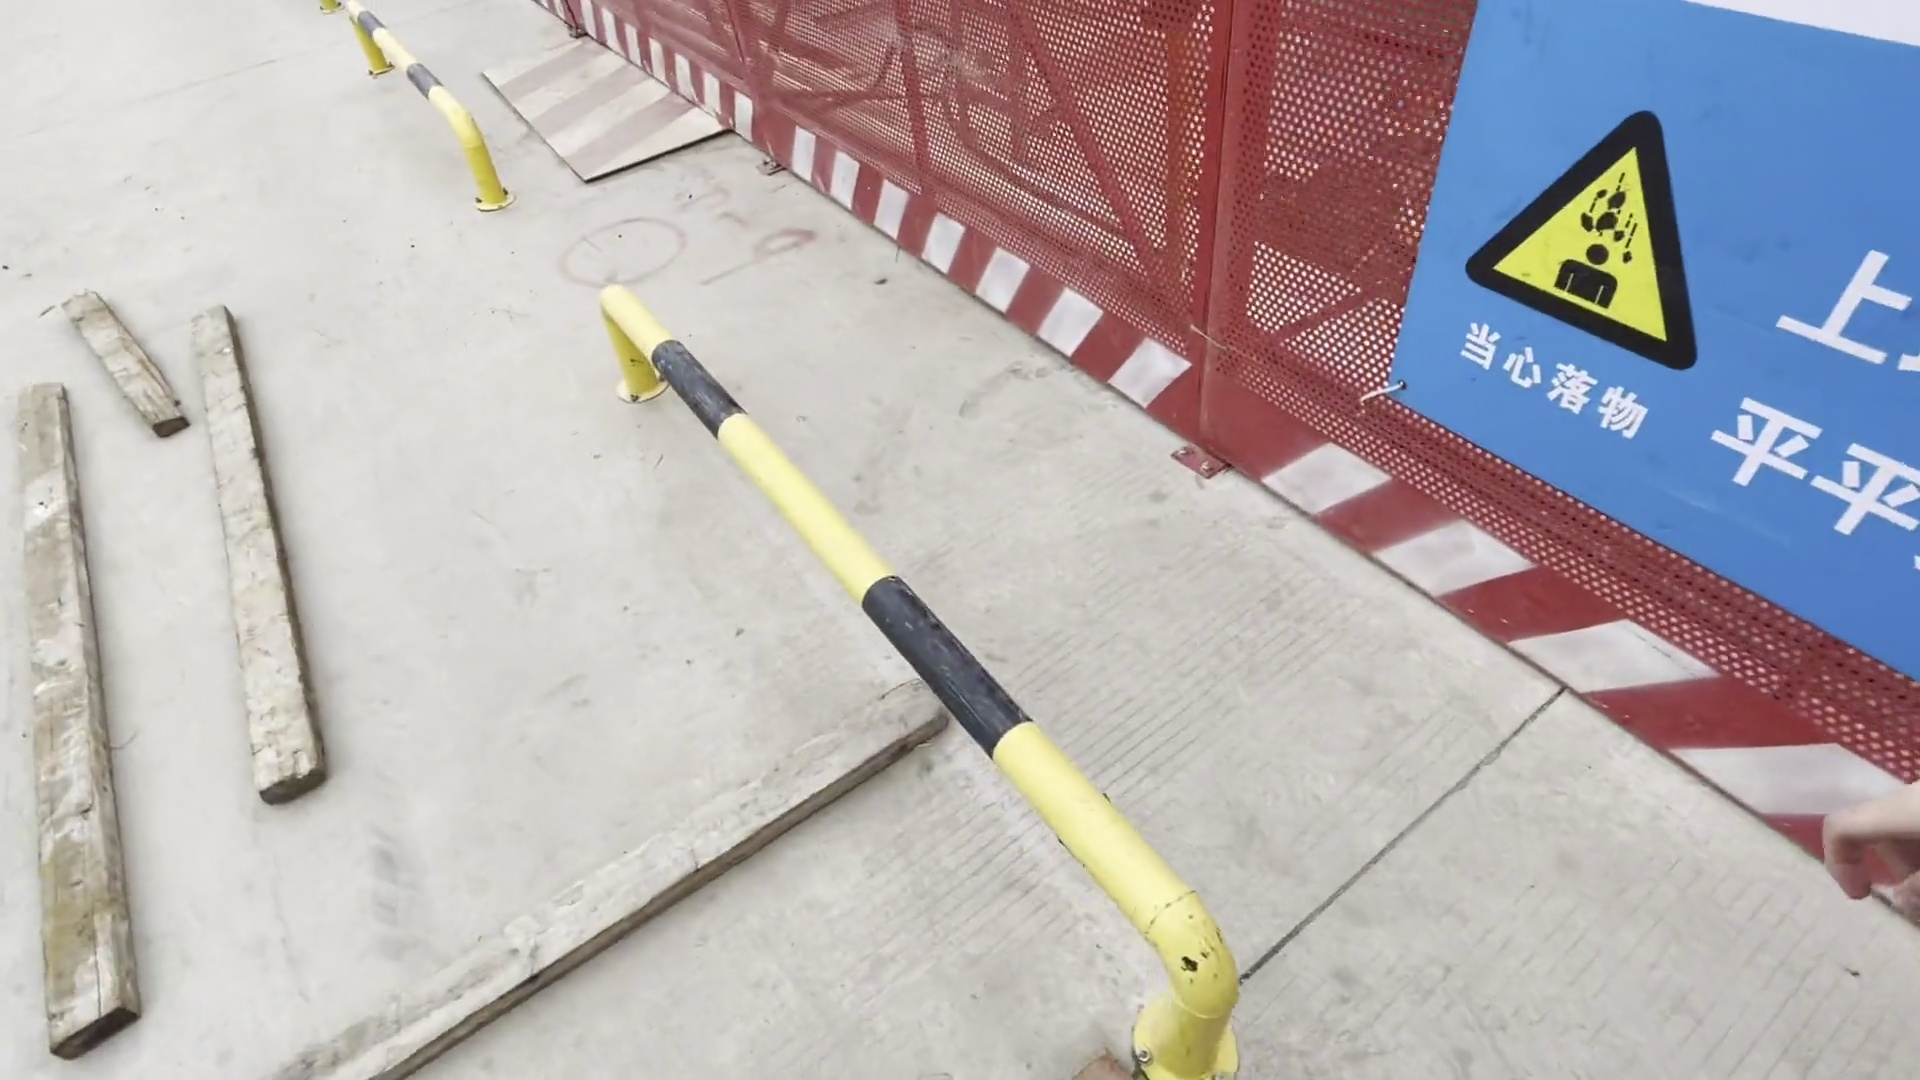fence: (550, 1, 1455, 564)
slogan: (1439, 70, 1920, 558)
